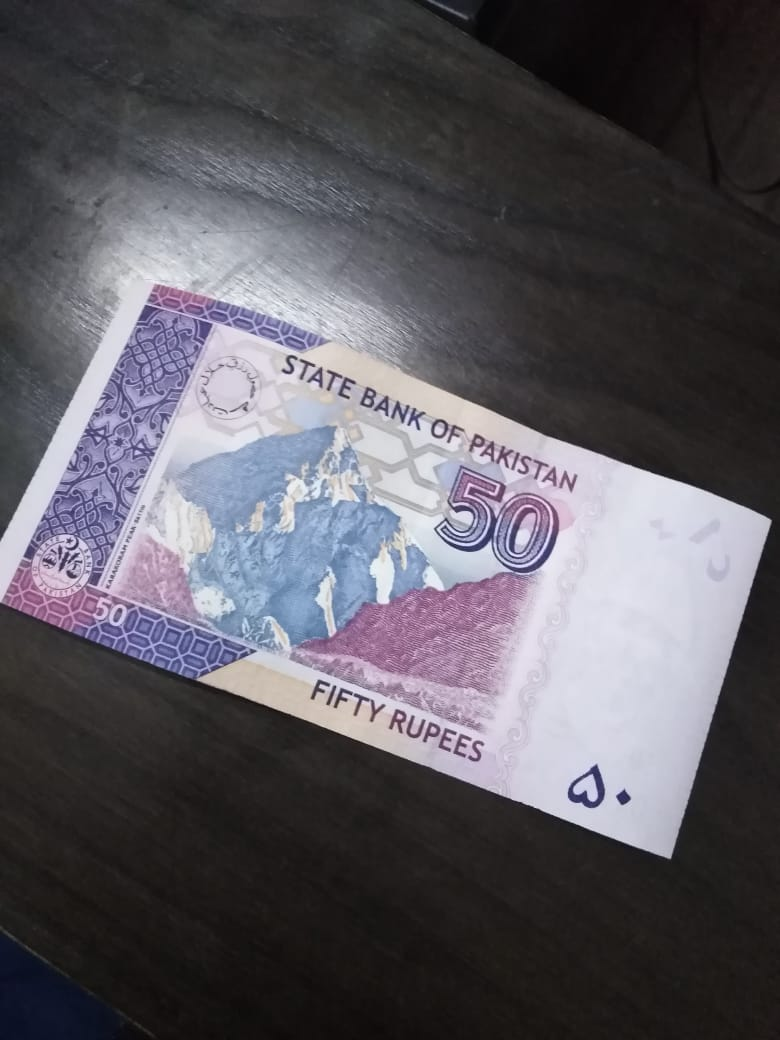50 rupee: (16, 263, 771, 876)
